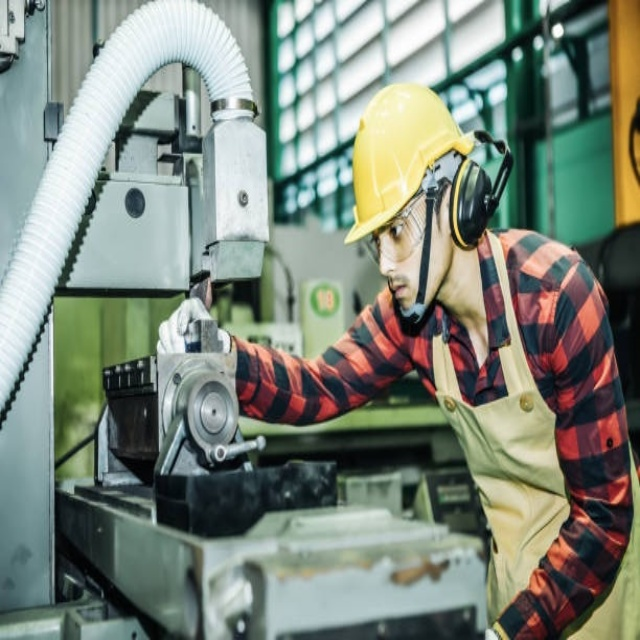Gafas: (363, 187, 432, 270)
Guantes: (157, 297, 229, 356)
Sin_mascara: (384, 271, 415, 315)
